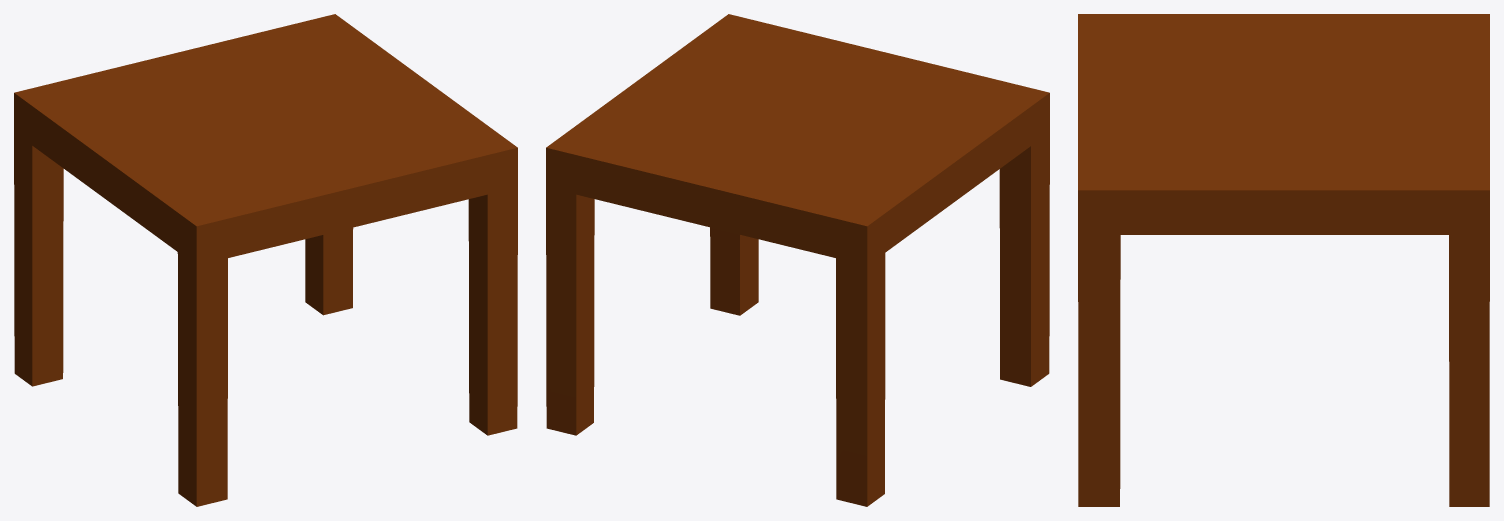
Rendered from new_chair.fbx.
The picture shows the model from 3 angles, left to right: view 1: azimuth 30°, elevation 25°; view 2: azimuth 150°, elevation 25°; view 3: azimuth 270°, elevation 25°; orthographic projection. The views are drawn at different scales.
Parts seen in each view (by area): view 1: Cube.001; view 2: Cube.001; view 3: Cube.001.
Boxes of the visible parts, <box> form: Cube.001: <box>14,14,517,506</box>; Cube.001: <box>546,14,1049,506</box>; Cube.001: <box>1078,14,1489,506</box>.
Size of the model in its own units: 146 by 122 by 144.
